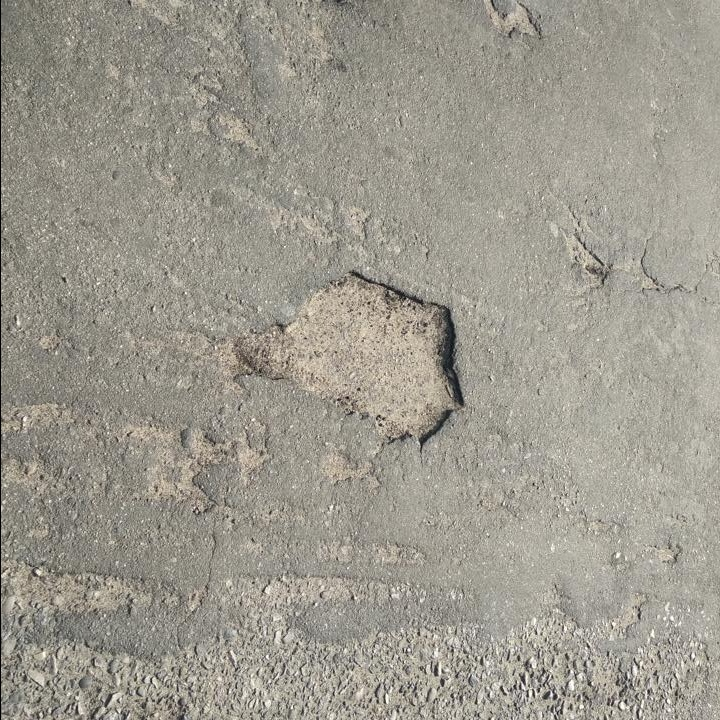pothole: (238, 264, 470, 455), (481, 0, 543, 44), (564, 231, 610, 280)
